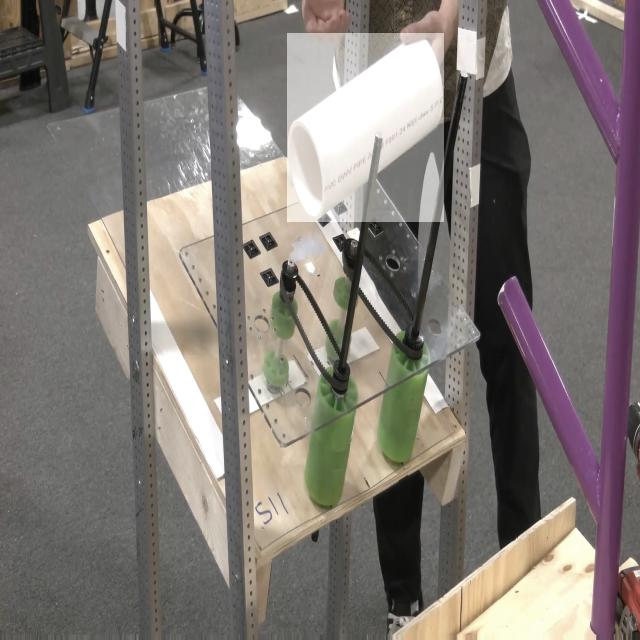Coral: (287, 33, 444, 222)
